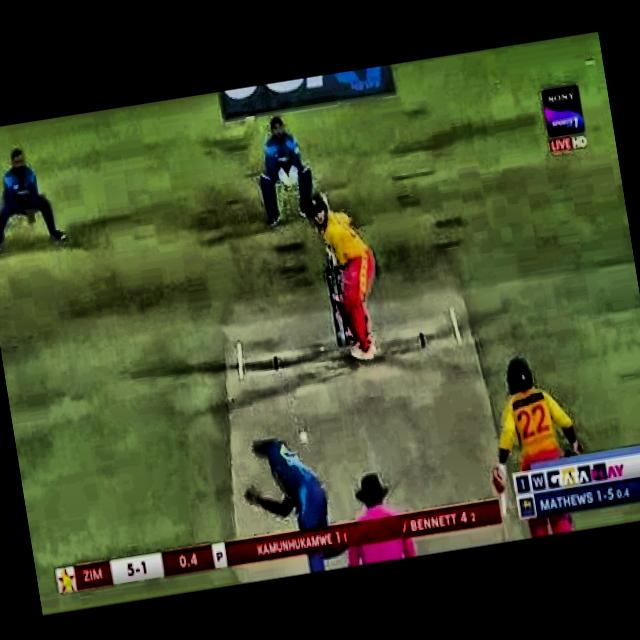Left-stump: (328, 274, 342, 345)
Middle-stump: (342, 319, 350, 344)
